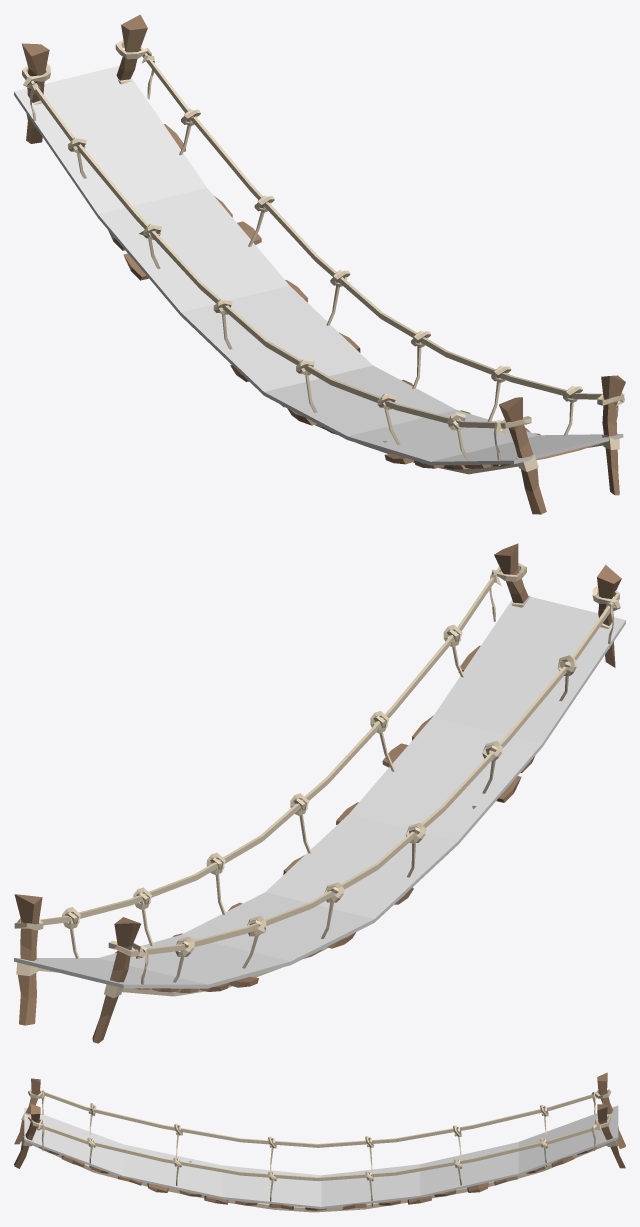
The model's file is bridge 1.fbx.
3 views of the same model, one above another, from view 1: azimuth 30°, elevation 25°; view 2: azimuth 150°, elevation 25°; view 3: azimuth 270°, elevation 25° (orthographic). The views are drawn at different scales.
Visible parts, largest first — view 1: Cube, Cube.003, Cube.001; view 2: Cube, Cube.003, Cube.001; view 3: Cube, Cube.003, Cube.001.
Boxes of the visible parts, x1,y1,x2,y2 form: Cube: (14, 65, 623, 465); Cube.003: (21, 14, 625, 514); Cube.001: (108, 124, 600, 469); Cube: (14, 596, 625, 988); Cube.003: (14, 543, 621, 1043); Cube.001: (70, 645, 534, 993); Cube: (24, 1105, 618, 1208); Cube.003: (14, 1072, 625, 1212); Cube.001: (39, 1147, 596, 1210).
Bounding box in the file's own units: 858 × 1113 × 5631.
